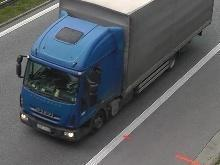Truck: (13, 0, 218, 148)
